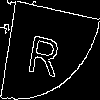R: (24, 25, 64, 78)
